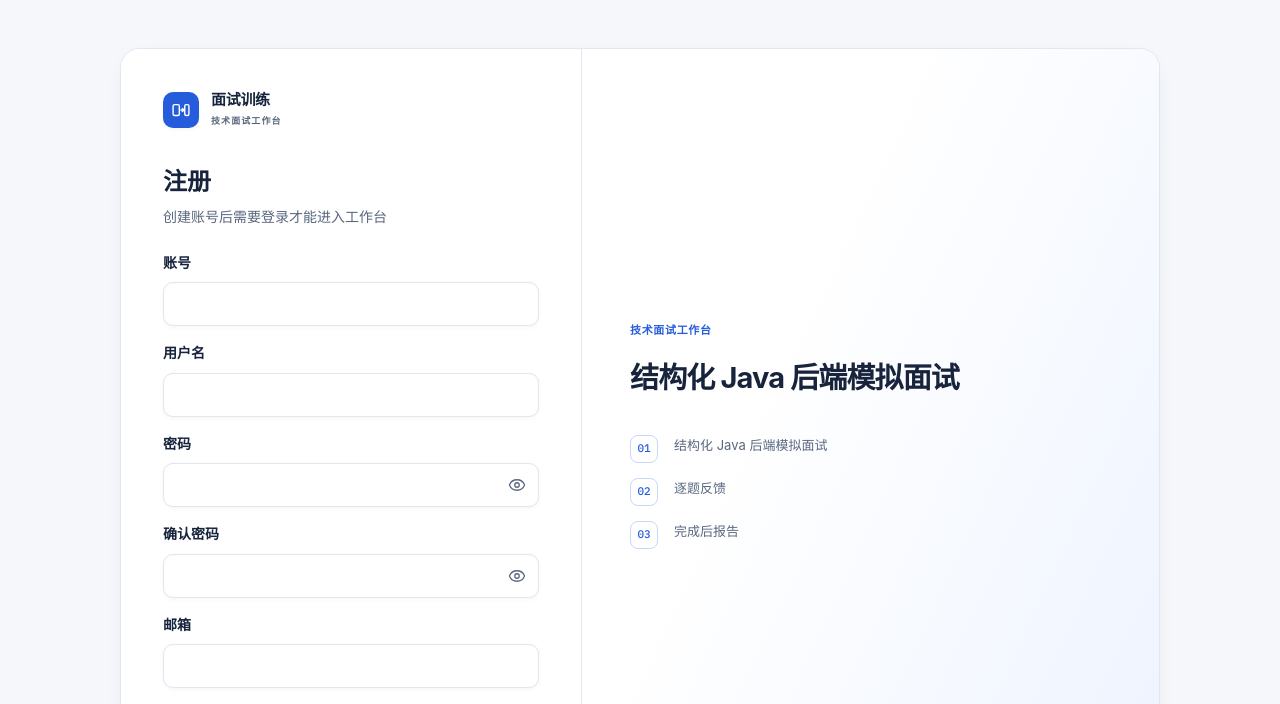
Test: RegisterView › rejects a mismatched confirm password locally
The width and height of the screenshot is (1280, 704).
Type "alice" into the field with id "register-account" at [351, 304], box [163,282,539,326]
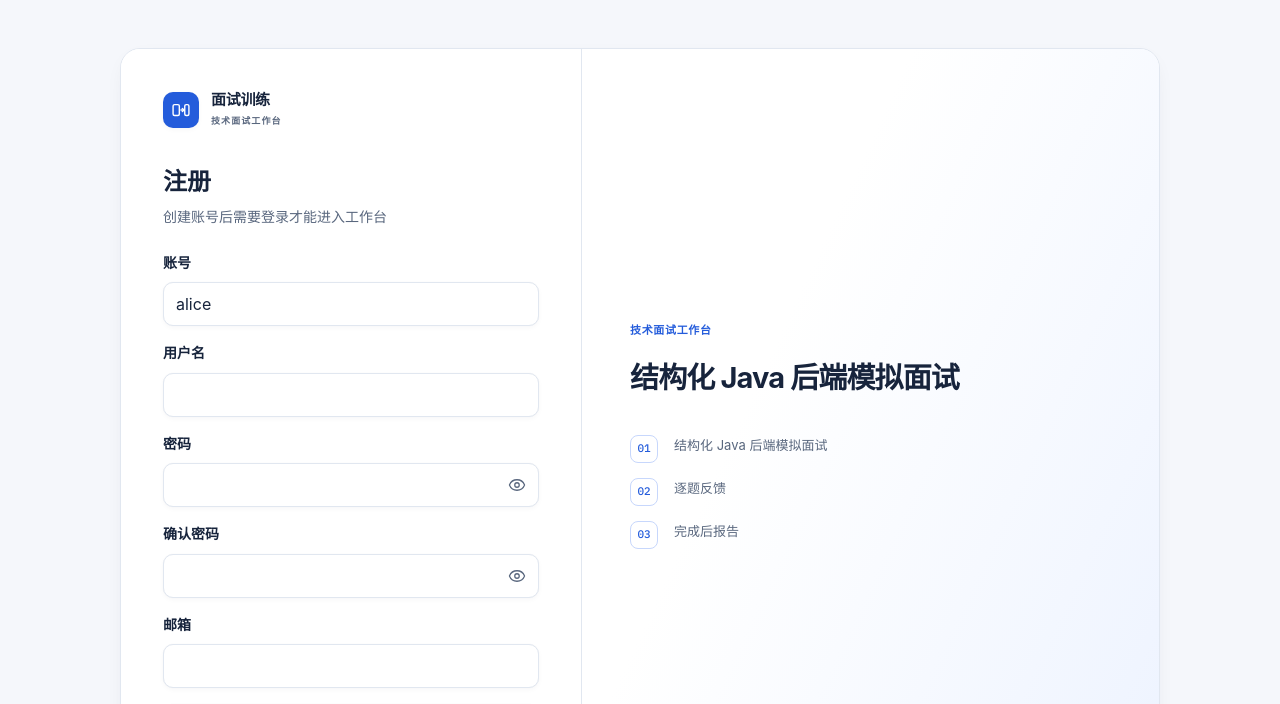
Type "爱丽丝" into the field with id "register-username" at [351, 395], box [163,373,539,417]
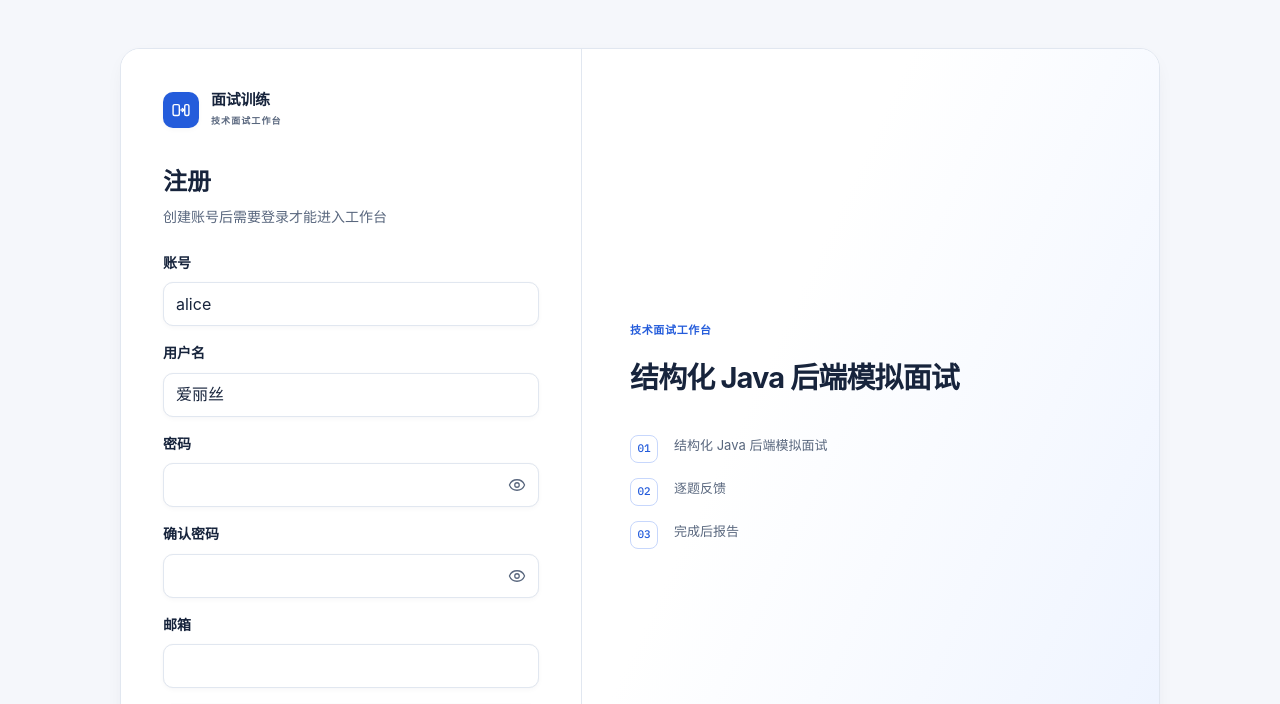
Type "password1" into the password field with id "register-password" at [351, 485], box [163,463,539,507]
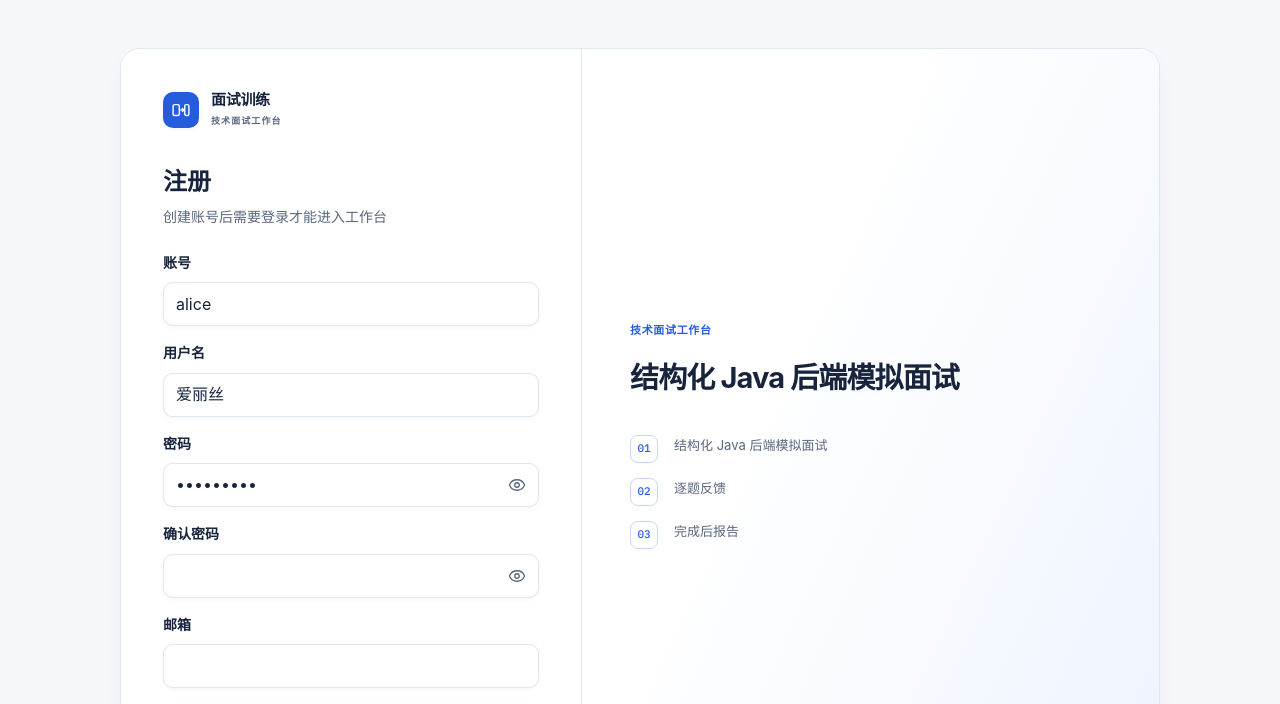
Type "password2" into the password field with id "register-confirm-password" at [351, 576], box [163,554,539,598]
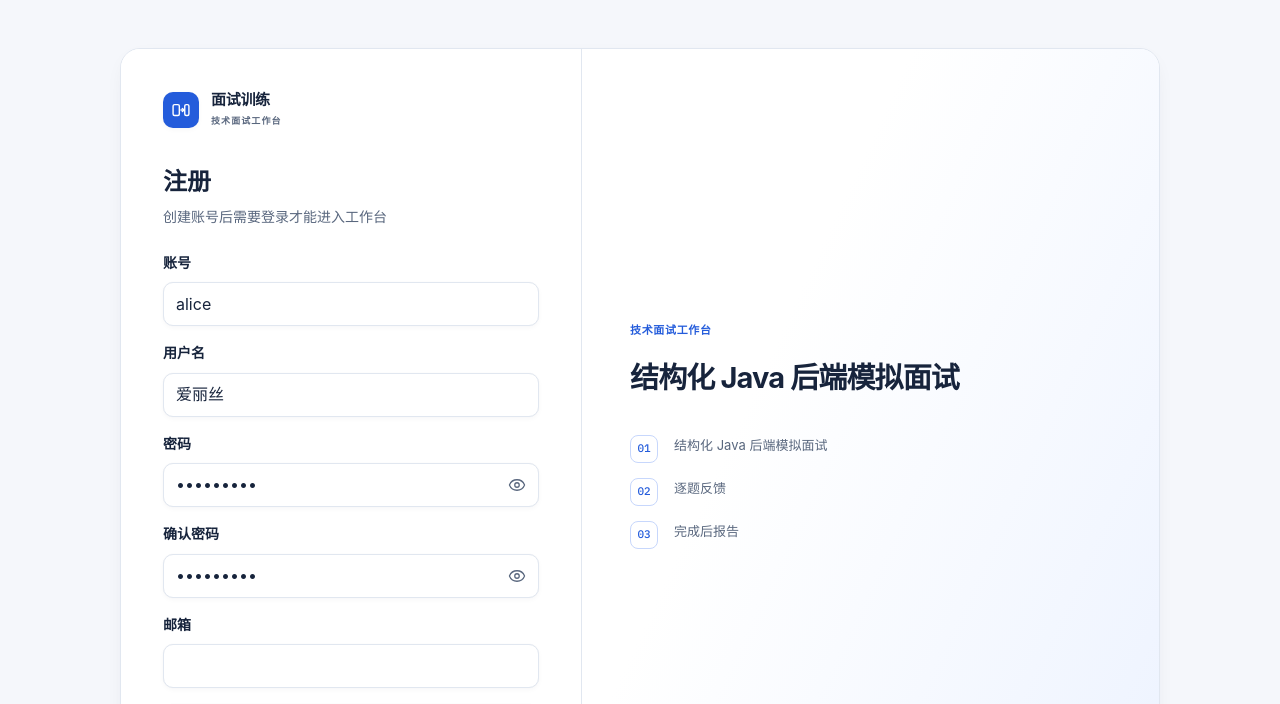
Type "alice@example.com" into the field with id "register-email" at [351, 666], box [163,644,539,688]
(page scrolled)
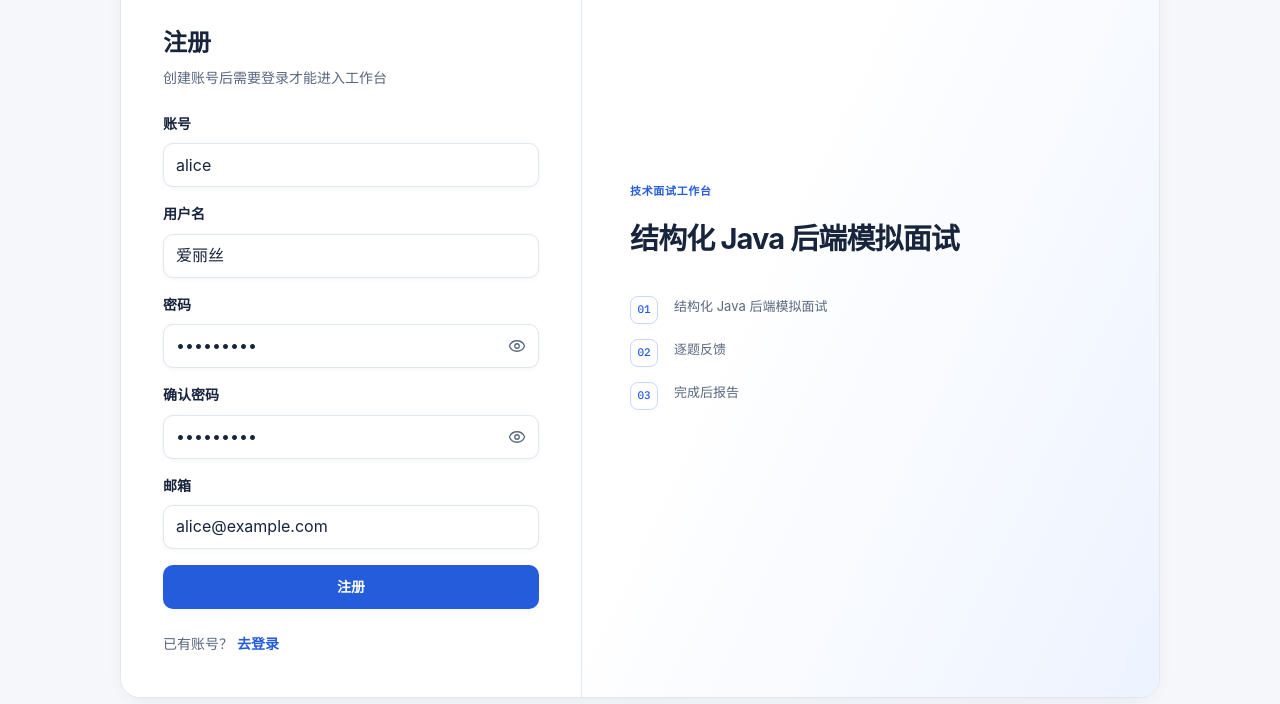
Submit the form, box [163,113,539,609]
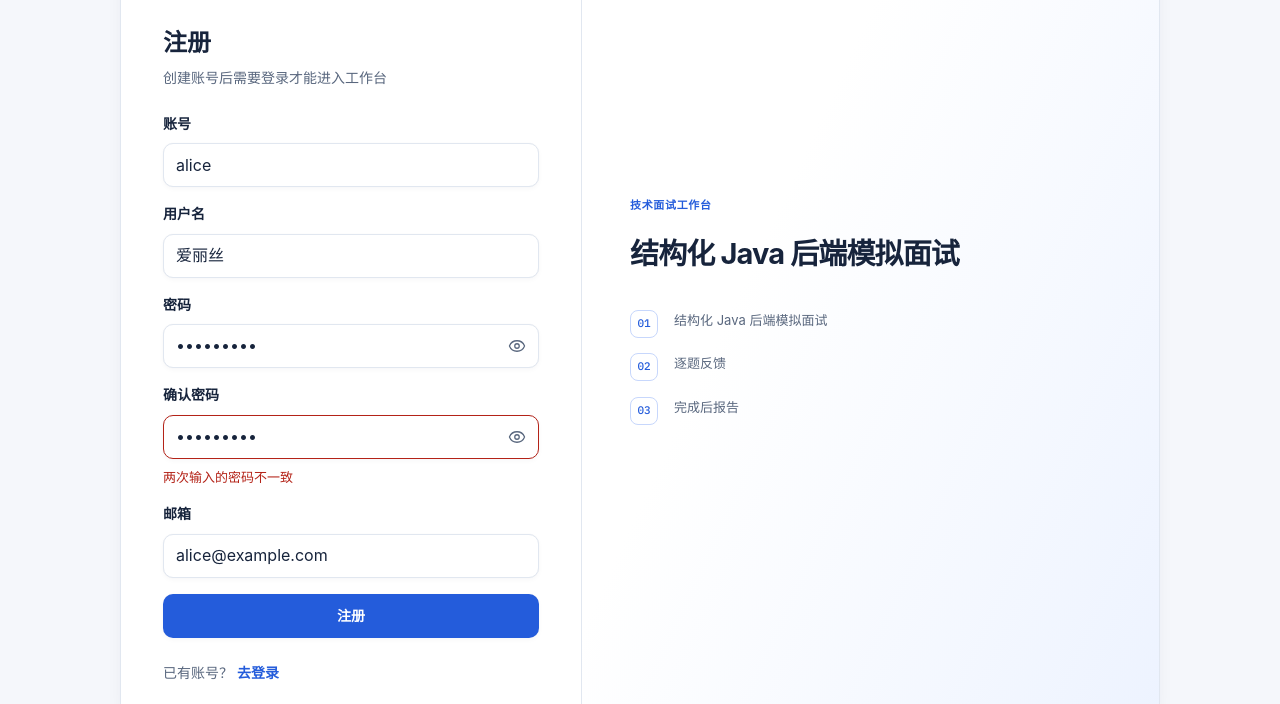
Check: the text "两次输入的密码不一致" is shown, box [163,468,293,484]
